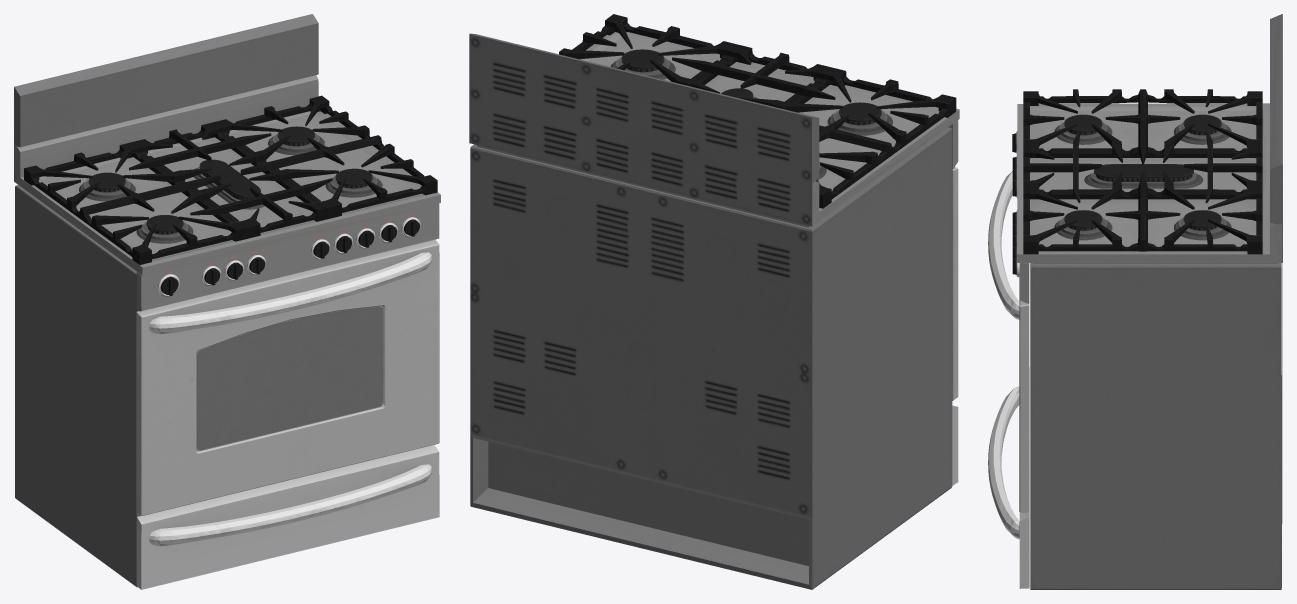
Rendered from electronic items.gltf.
3 renders of one model, left to right at view 1: azimuth 30°, elevation 25°; view 2: azimuth 150°, elevation 25°; view 3: azimuth 270°, elevation 25°, orthographic. The views are drawn at different scales.
Size of the model in its own units: 0.34 by 0.4477 by 0.2809.
Materials: 1 (1 with a texture image).
